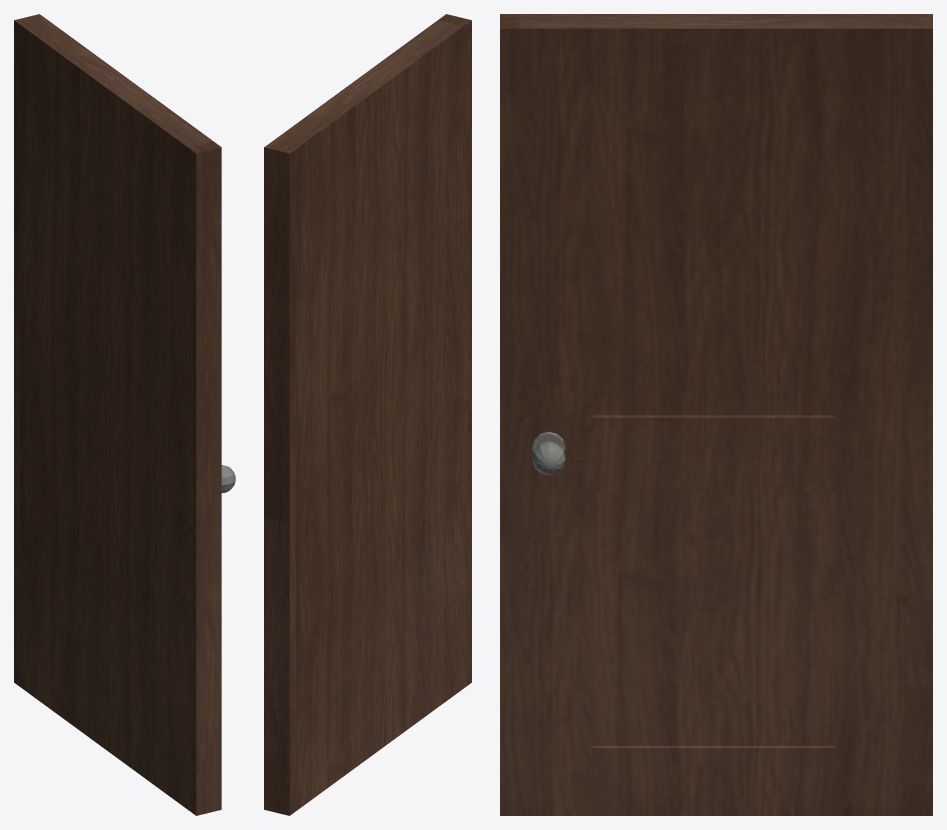
File: door_surfaced.fbx
3 views of the same model, side by side, from view 1: azimuth 30°, elevation 25°; view 2: azimuth 150°, elevation 25°; view 3: azimuth 270°, elevation 25° (orthographic). The views are drawn at different scales.
Parts seen in each view (by area): view 1: door; view 2: door; view 3: door, doorHandle.
Part boxes in pixels (box(x1,y1,x2,y2)): door: box(14, 14, 221, 815); door: box(264, 14, 471, 815); door: box(500, 14, 932, 815); doorHandle: box(532, 431, 565, 475).
Size of the model in its own units: 20.73 by 226 by 113.
Materials: 2 (2 with a texture image).
